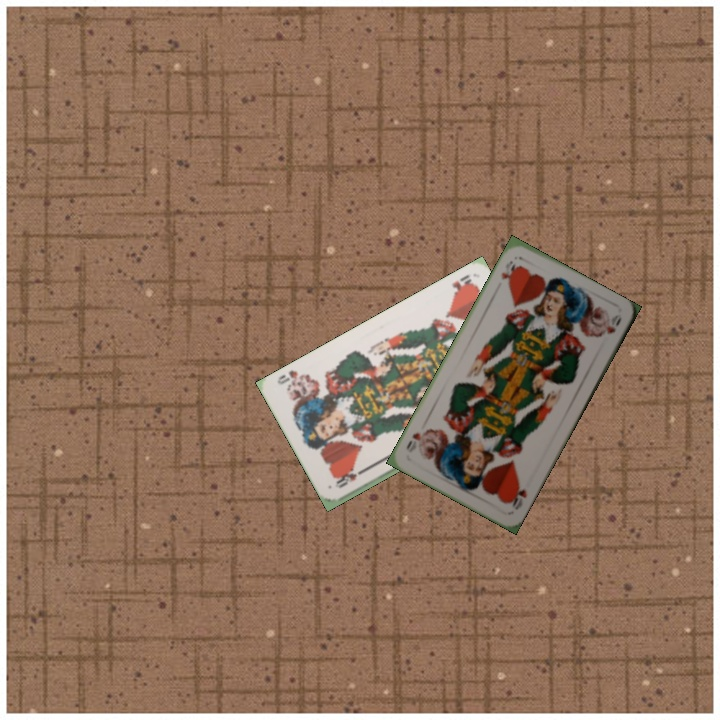HO: (333, 465, 368, 491), (448, 270, 477, 298), (497, 257, 520, 287), (506, 482, 529, 512)
